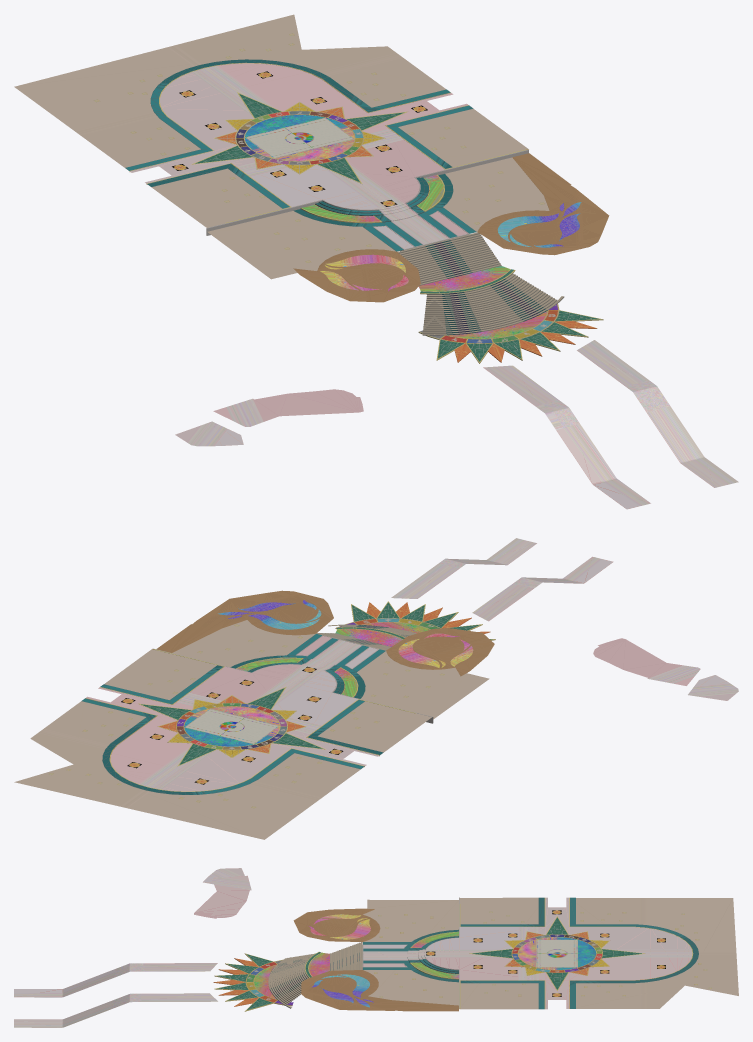
The model's file is objects_un_c01square01.gltf.
3 views of the same model, one above another, from view 1: azimuth 30°, elevation 25°; view 2: azimuth 150°, elevation 25°; view 3: azimuth 270°, elevation 25° (orthographic). The views are drawn at different scales.
Visible parts, largest first — view 1: objects_un_c01square01; view 2: objects_un_c01square01; view 3: objects_un_c01square01.
Part boxes in pixels (x1,y1,x2,y2): objects_un_c01square01: (14,14,738,509); objects_un_c01square01: (14,538,738,839); objects_un_c01square01: (14,868,738,1027).
Size of what is drawn, in the model's own units: 147 by 21.42 by 256.
Materials: 16 (16 with a texture image).
